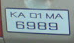0: (9, 11, 18, 19), (29, 12, 38, 19)
1: (36, 12, 43, 19)
6: (15, 19, 25, 30)
8: (37, 20, 48, 31)
9: (47, 20, 59, 32), (25, 20, 36, 31)
A: (17, 11, 26, 19), (55, 12, 64, 20)
M: (45, 12, 55, 20)
